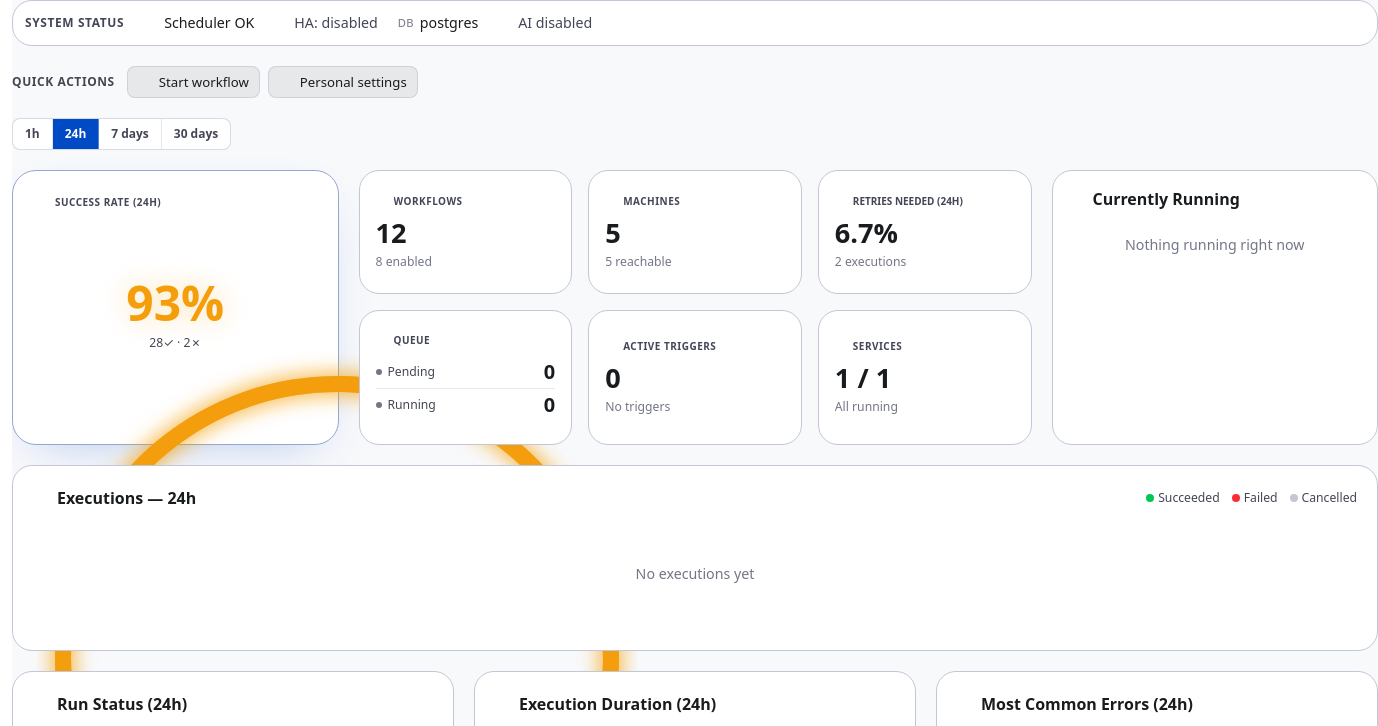
Scenario: DashboardPage › shows the window cards as failed instead of the previous window when a switch fails, and retries
Click the button "30 days" at (196, 134), box [162,119,230,149]
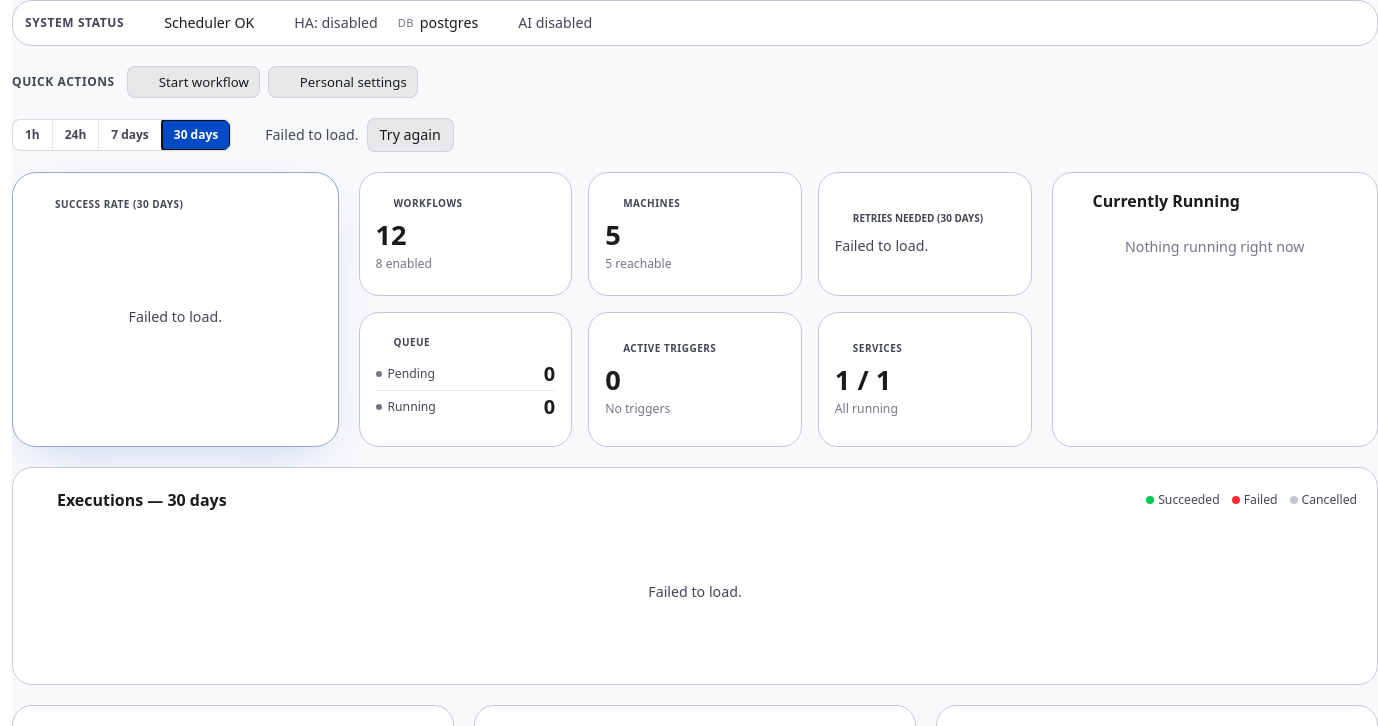
Expected: the message shows "Failed to load.", [265,125,359,144]
Expected: the text "Failed to load." below "Success Rate (30 days)" is shown, [128,307,222,326]
Expected: the text "Failed to load." below "Retries needed (30 days)" is shown, [835,236,928,255]
Click the button "Try again" at (410, 135), box [367,118,454,152]
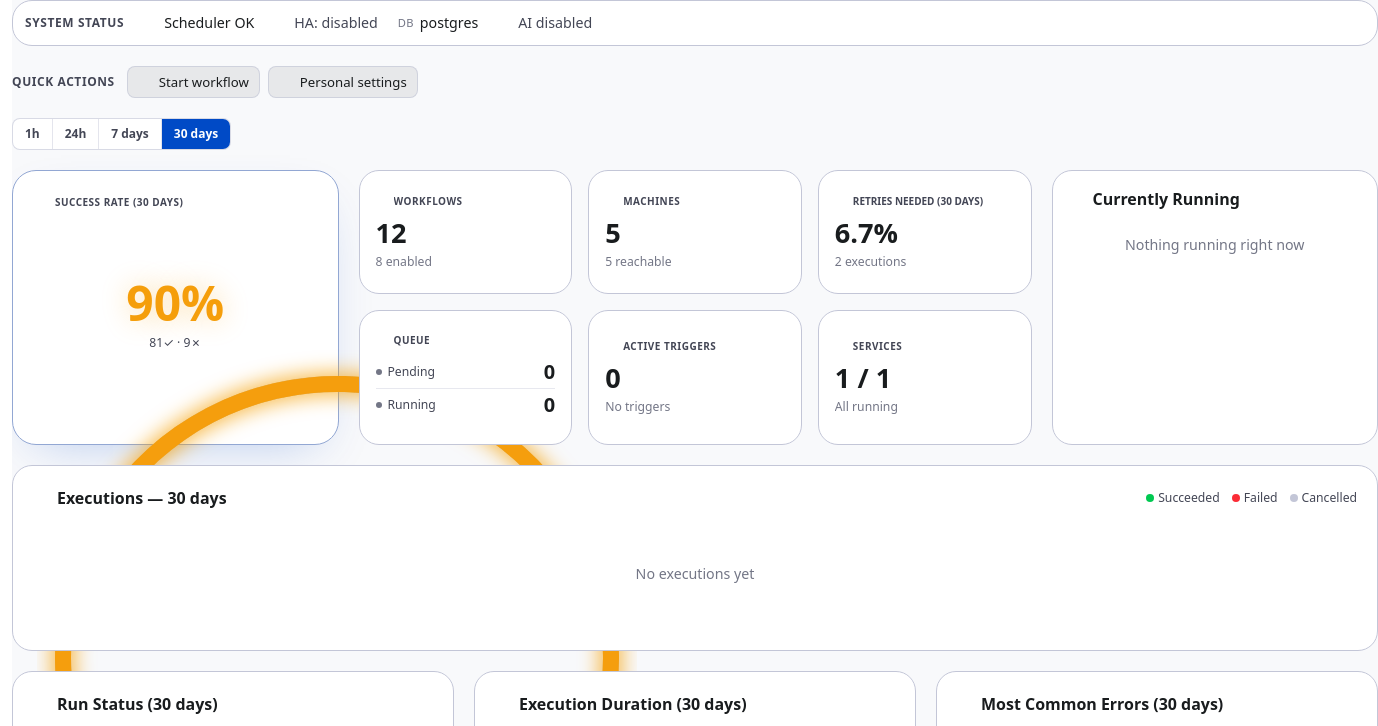
Expected: the message "Failed to load. Try again" is gone
